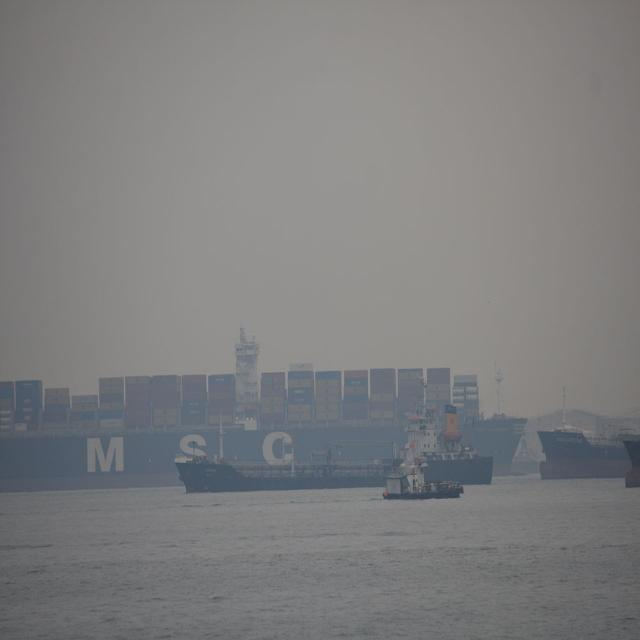cargoship: (0, 362, 539, 476), (175, 424, 343, 512), (394, 412, 474, 484)
